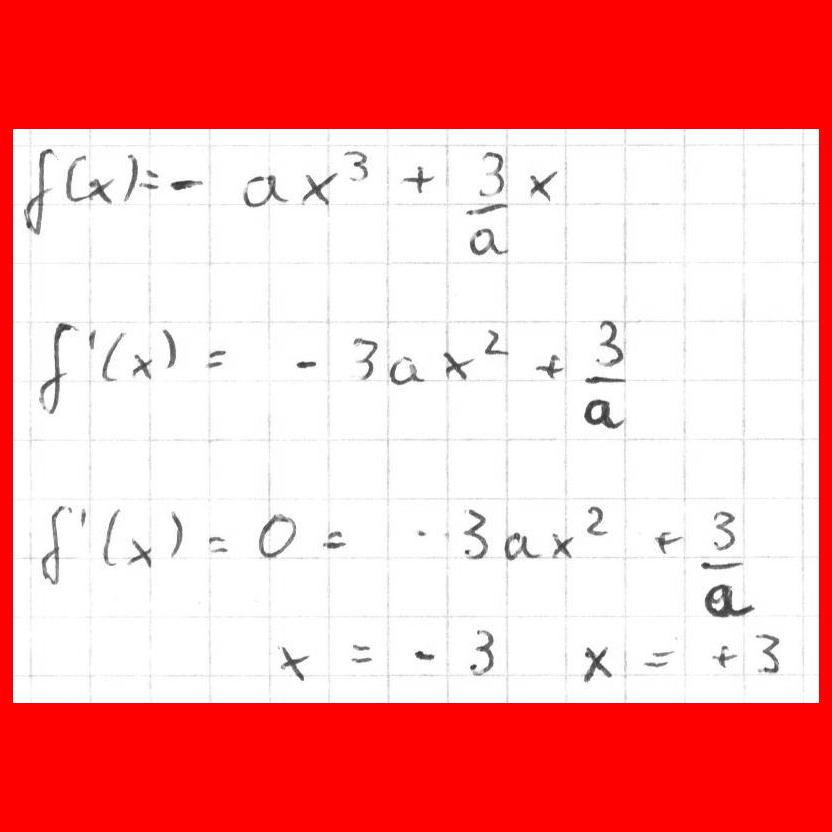Char: (37, 320, 79, 414), (21, 149, 58, 231), (38, 501, 71, 582), (256, 510, 298, 561), (471, 149, 510, 200), (591, 316, 626, 367), (241, 169, 286, 206), (466, 624, 498, 676), (298, 166, 337, 207), (97, 505, 123, 566), (461, 506, 489, 562), (275, 641, 310, 685), (705, 582, 745, 620), (349, 334, 379, 384), (707, 507, 738, 555), (581, 395, 622, 430), (579, 642, 612, 684), (100, 329, 126, 382), (753, 630, 783, 675), (387, 353, 425, 388), (466, 226, 505, 260), (398, 162, 435, 197), (502, 528, 537, 563), (63, 152, 86, 204), (439, 347, 472, 383), (526, 166, 556, 203), (341, 147, 371, 183), (121, 151, 141, 204), (534, 349, 566, 381), (650, 527, 681, 557), (86, 173, 115, 205), (165, 506, 182, 560), (582, 502, 608, 537), (158, 325, 178, 370), (700, 555, 745, 575), (128, 534, 153, 570), (642, 645, 676, 671), (711, 642, 740, 672), (549, 529, 575, 561), (480, 326, 505, 359), (347, 639, 374, 667), (465, 203, 509, 220), (130, 348, 152, 381), (166, 174, 204, 193), (581, 374, 626, 390), (320, 526, 348, 551), (204, 344, 229, 371), (206, 532, 230, 558), (409, 646, 439, 664), (142, 167, 160, 191), (293, 354, 318, 371), (411, 524, 430, 542), (86, 326, 99, 352), (75, 506, 88, 530)
